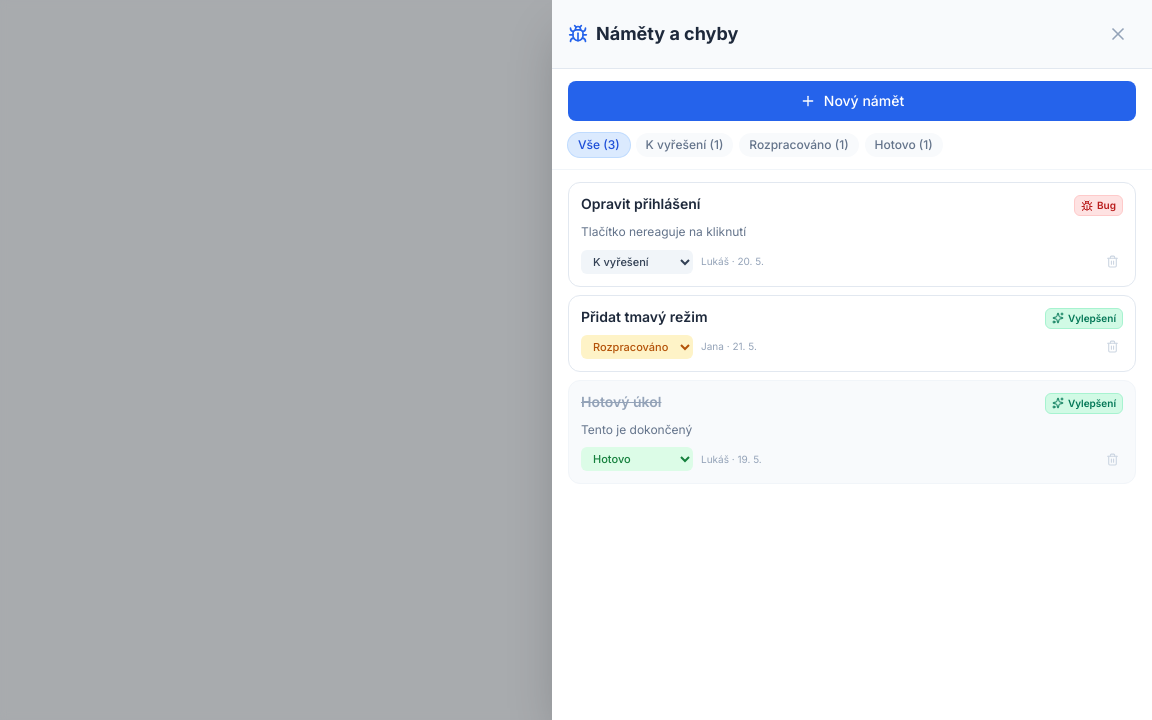
it: IssueDrawer › filters issues by status
Expected: the heading "Opravit přihlášení" is shown, [581,195,700,212]
// Click the "K vyřešení" filter
Click the button "K vyřešení (1)" at (684, 145), box [636,133,733,157]
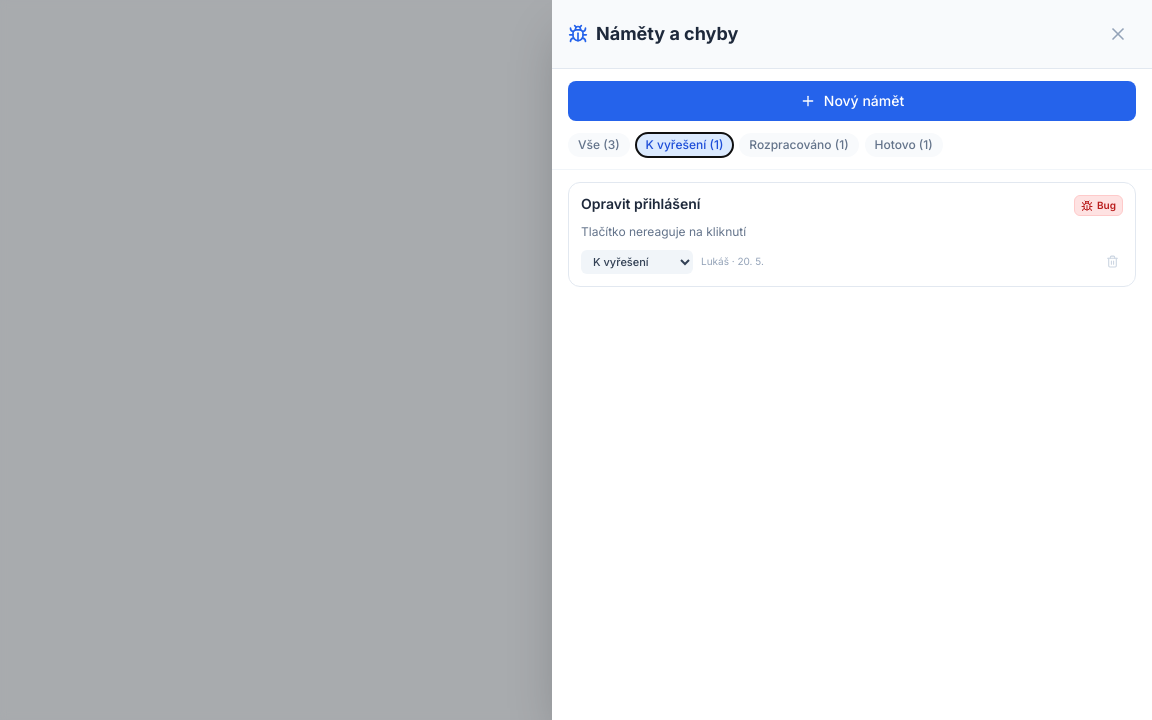
Expected: the heading "Opravit přihlášení" is shown, [581,195,700,212]
Result: the heading "Přidat tmavý režim" is gone
Result: the heading "Hotový úkol" is gone
// Click "Vše" to show all again
Click the button "Vše (3)" at (599, 145), box [568,133,630,157]
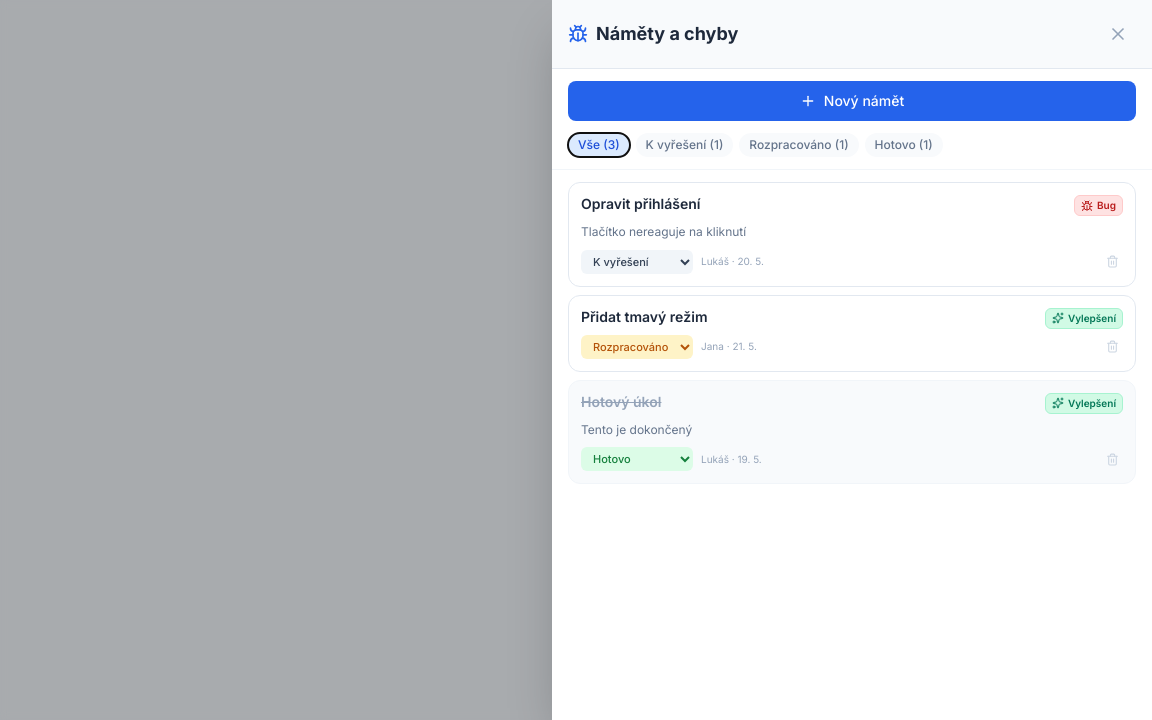
Expected: the heading "Opravit přihlášení" is shown, [581,195,700,212]
Result: the heading "Přidat tmavý režim" is shown at [581,308,708,325]
